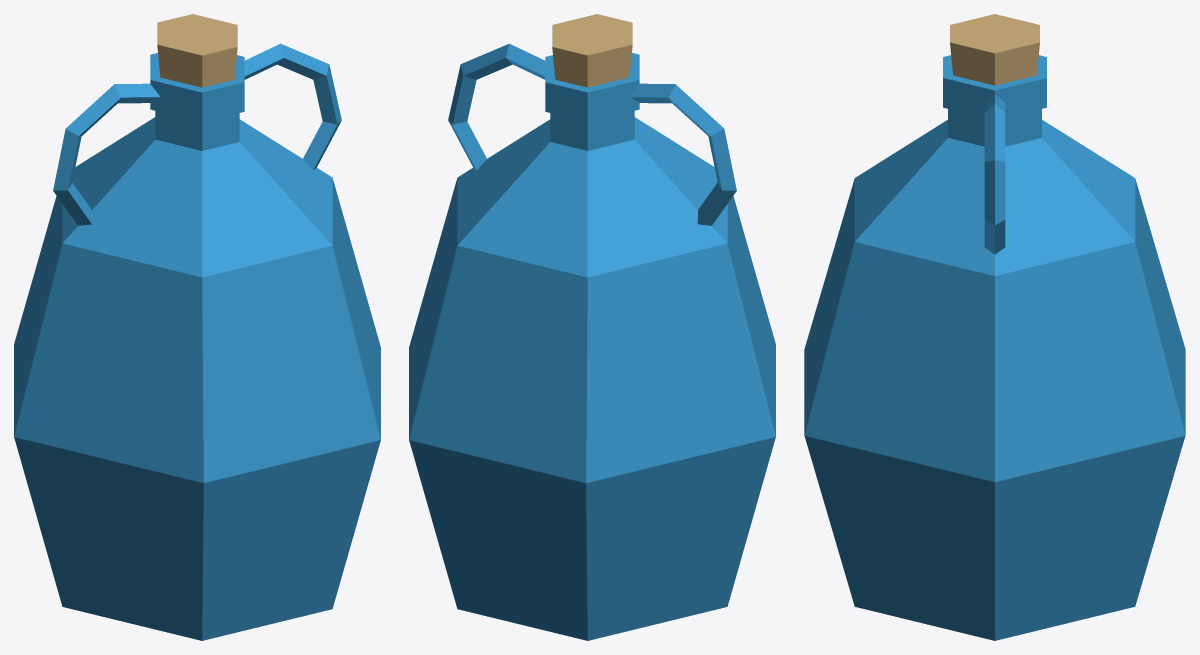
The model's file is Bottle_1_6.fbx.
The picture shows the model from 3 angles, left to right: view 1: azimuth 30°, elevation 25°; view 2: azimuth 150°, elevation 25°; view 3: azimuth 270°, elevation 25°; orthographic projection.
Visible parts, largest first — view 1: Bottle_1_6; view 2: Bottle_1_6; view 3: Bottle_1_6.
Boxes of the visible parts, x1,y1,x2,y2 form: Bottle_1_6: (14,14,380,640); Bottle_1_6: (409,14,775,640); Bottle_1_6: (804,14,1185,640).
Bounding box in the file's own units: 15.97 × 22.42 × 14.31.
